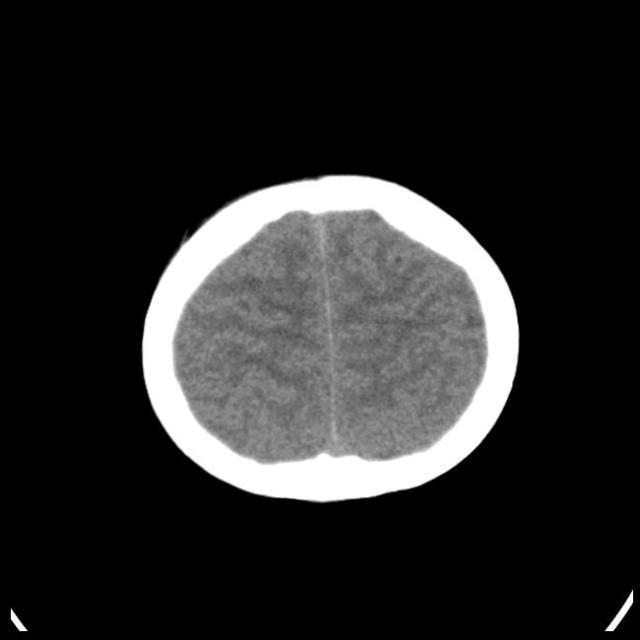lesion: (136, 166, 526, 507)
